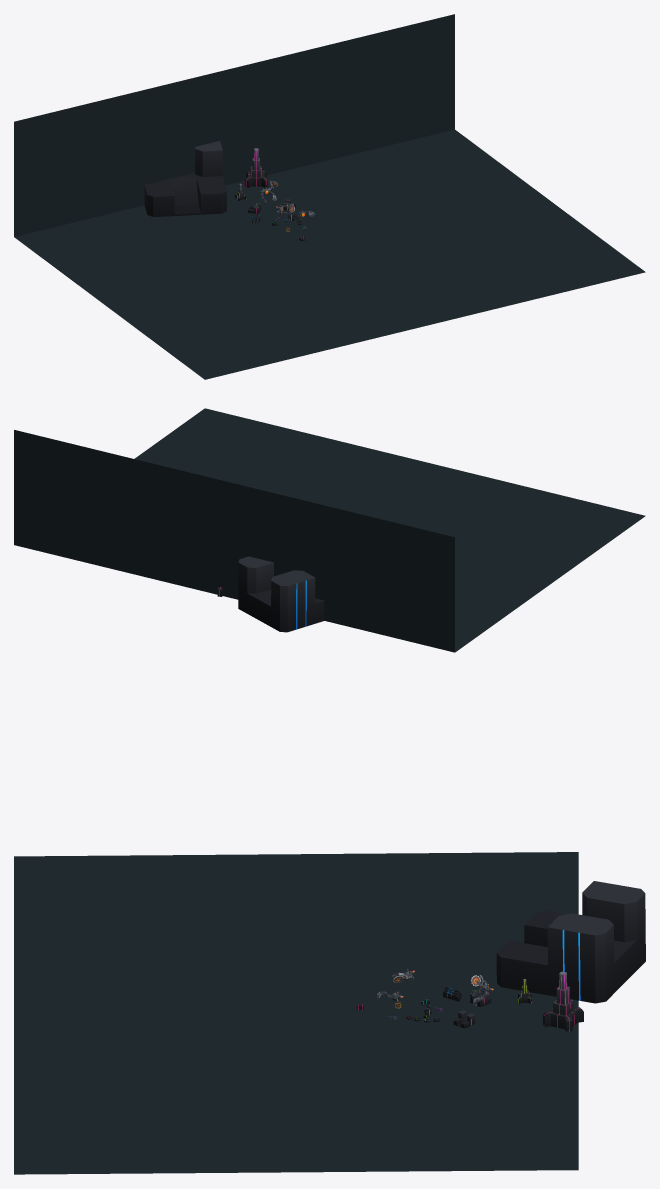
Rendered from Environment Main UI.fbx.
3 views of the same model, one above another, from view 1: azimuth 30°, elevation 25°; view 2: azimuth 150°, elevation 25°; view 3: azimuth 270°, elevation 25° (orthographic). The views are drawn at different scales.
Parts seen in each view (by area): view 1: Plane.105, Plane.104, Plane.099; view 2: Plane.105, Plane.104; view 3: Plane.105, Plane.104, Plane.099.
Part boxes in pixels (x1=…): Plane.105: x1=14, y1=14, x2=645, y2=379; Plane.104: x1=144, y1=141, x2=226, y2=216; Plane.099: x1=245, y1=148, x2=267, y2=187; Plane.105: x1=14, y1=408, x2=645, y2=652; Plane.104: x1=238, y1=556, x2=324, y2=632; Plane.105: x1=14, y1=852, x2=578, y2=1174; Plane.104: x1=496, y1=881, x2=645, y2=1003; Plane.099: x1=543, y1=971, x2=583, y2=1031.
Bounding box in the file's own units: 31040 × 7961 × 26056.
